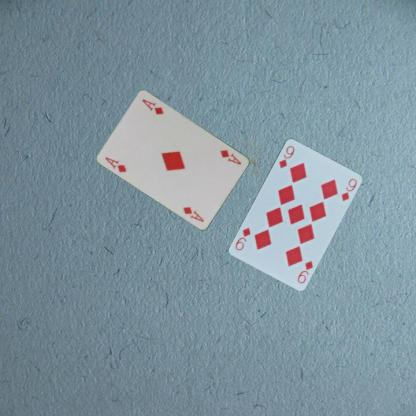9d: (276, 143, 296, 169), (295, 258, 314, 284)
Ad: (103, 154, 128, 173), (218, 147, 242, 166)
